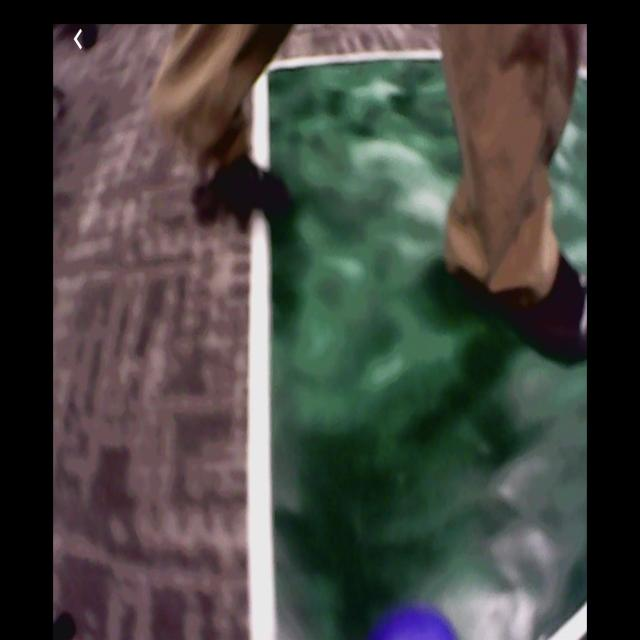ball: (378, 608, 457, 640)
